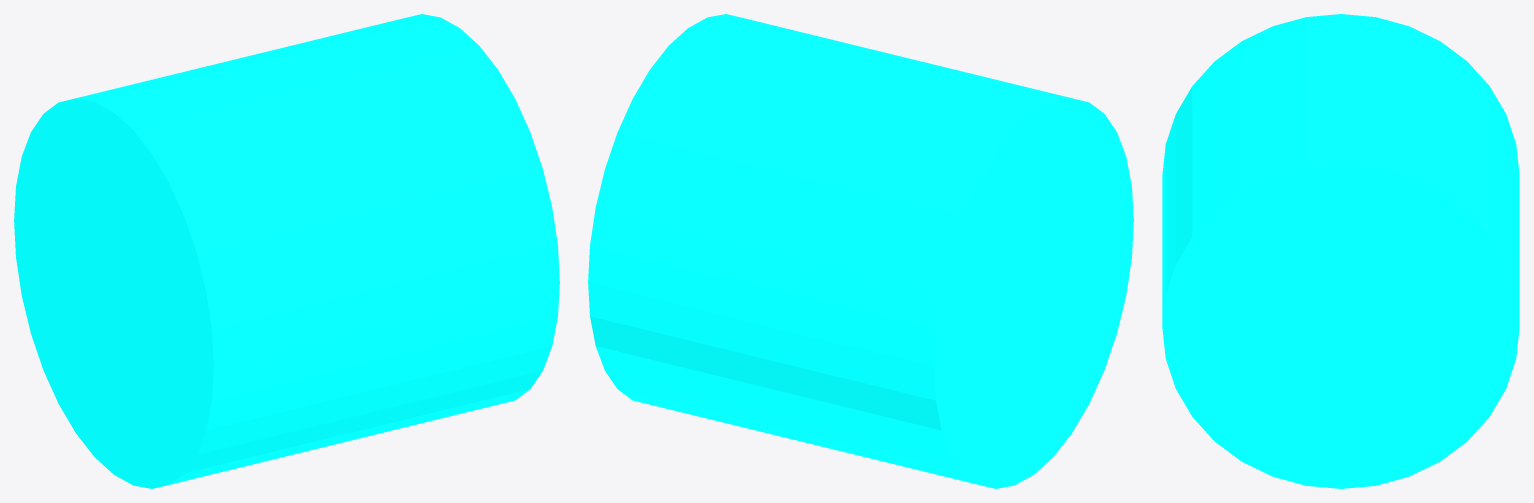
File: UnitCylinderCyan.dae
3 renders of one model, left to right at view 1: azimuth 30°, elevation 25°; view 2: azimuth 150°, elevation 25°; view 3: azimuth 270°, elevation 25°, orthographic. The views are drawn at different scales.
Parts seen in each view (by area): view 1: Cylinder; view 2: Cylinder; view 3: Cylinder.
Part boxes in pixels (x1,y1,x2,y2): Cylinder: (14,14,559,488); Cylinder: (588,14,1133,488); Cylinder: (1162,14,1519,488).
Size of the model in its own units: 1 by 1 by 1.
